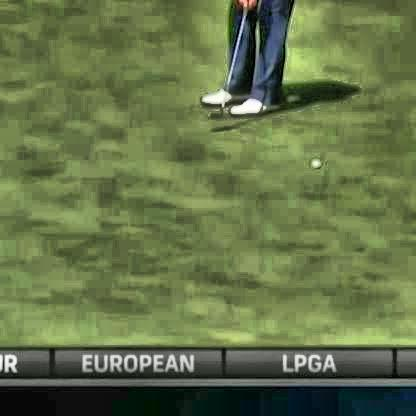golfball: (309, 155, 319, 165)
